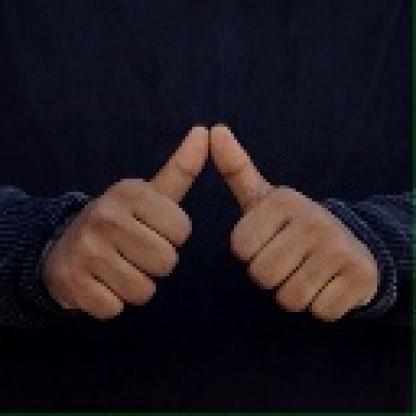A: (62, 105, 374, 329)
